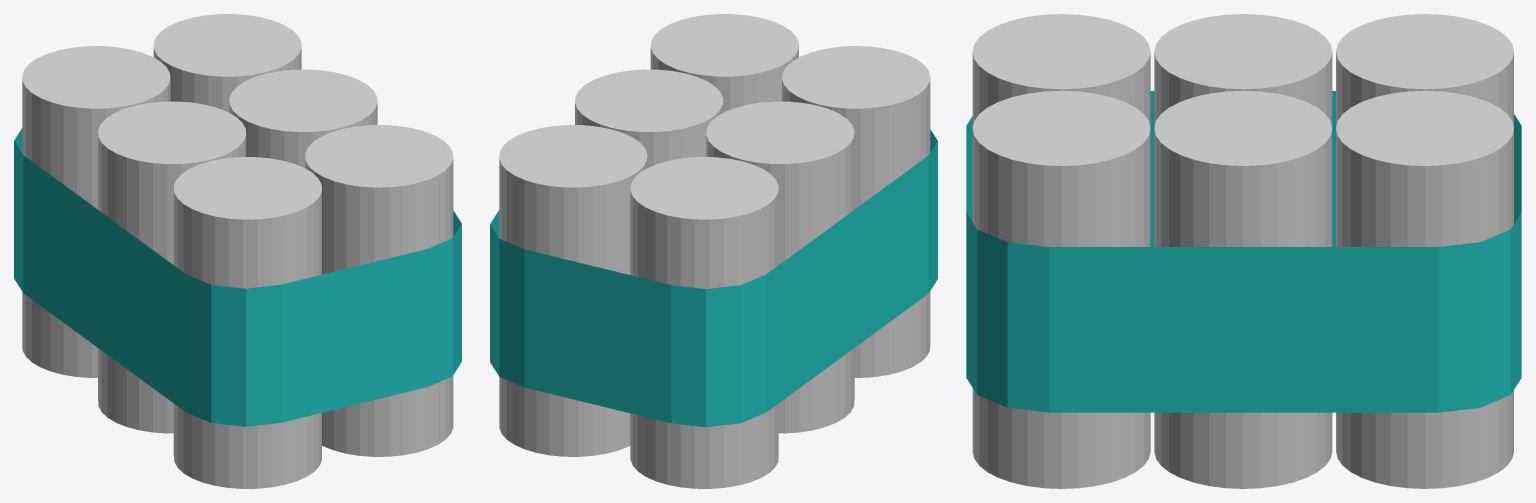
File: Paper_Towl.fbx
3 views of the same model, side by side, from view 1: azimuth 30°, elevation 25°; view 2: azimuth 150°, elevation 25°; view 3: azimuth 270°, elevation 25° (orthographic). The views are drawn at different scales.
Parts seen in each view (by area): view 1: Paper_Towls; view 2: Paper_Towls; view 3: Paper_Towls.
Boxes of the visible parts, box(x1,y1,x2,y2) form: Paper_Towls: box(14, 14, 461, 488); Paper_Towls: box(490, 14, 937, 488); Paper_Towls: box(966, 14, 1521, 488).
Size of the model in its own units: 41.45 by 40 by 62.38.
